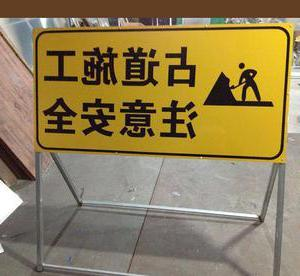sign: (33, 24, 290, 155)
